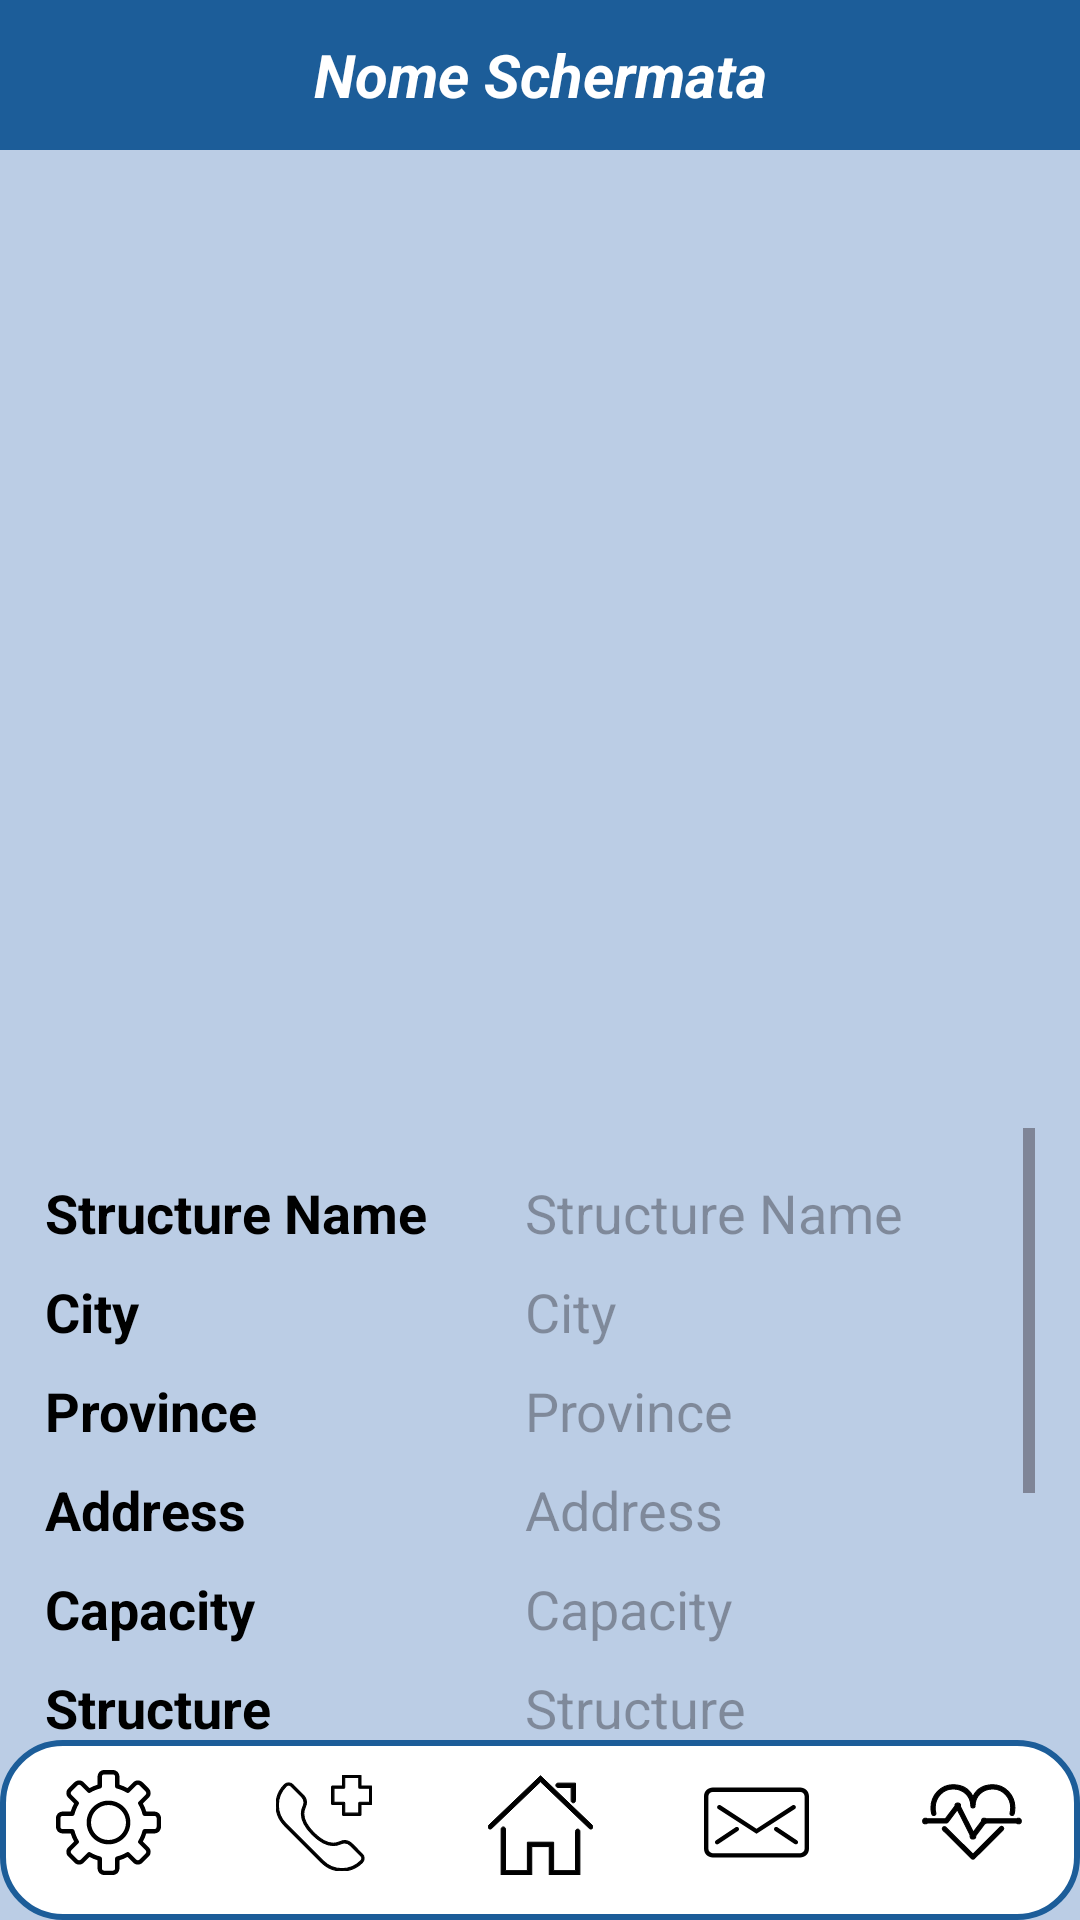

Named icons in this screenshot (1080x1920) and their bounding boxes, (x1, y1, x2, y2):
home: (488, 1775, 593, 1875)
message: (704, 1787, 809, 1858)
sos: (276, 1775, 372, 1871)
